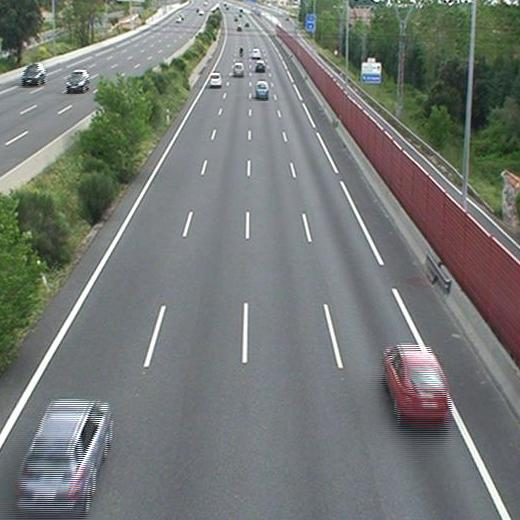car: (18, 398, 111, 513), (384, 346, 447, 418), (255, 81, 269, 98), (232, 63, 245, 77), (209, 73, 222, 87), (255, 61, 266, 71), (250, 49, 261, 58)
motorcycle: (237, 44, 245, 57)
